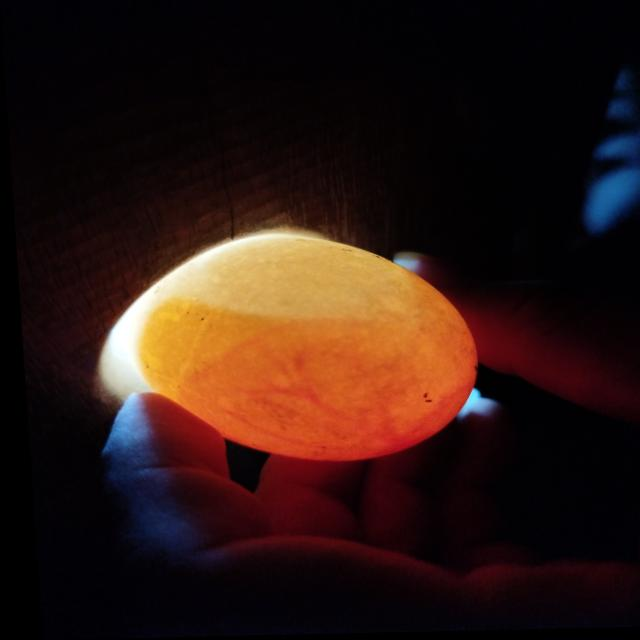Camara de Ar: (150, 235, 411, 321)
